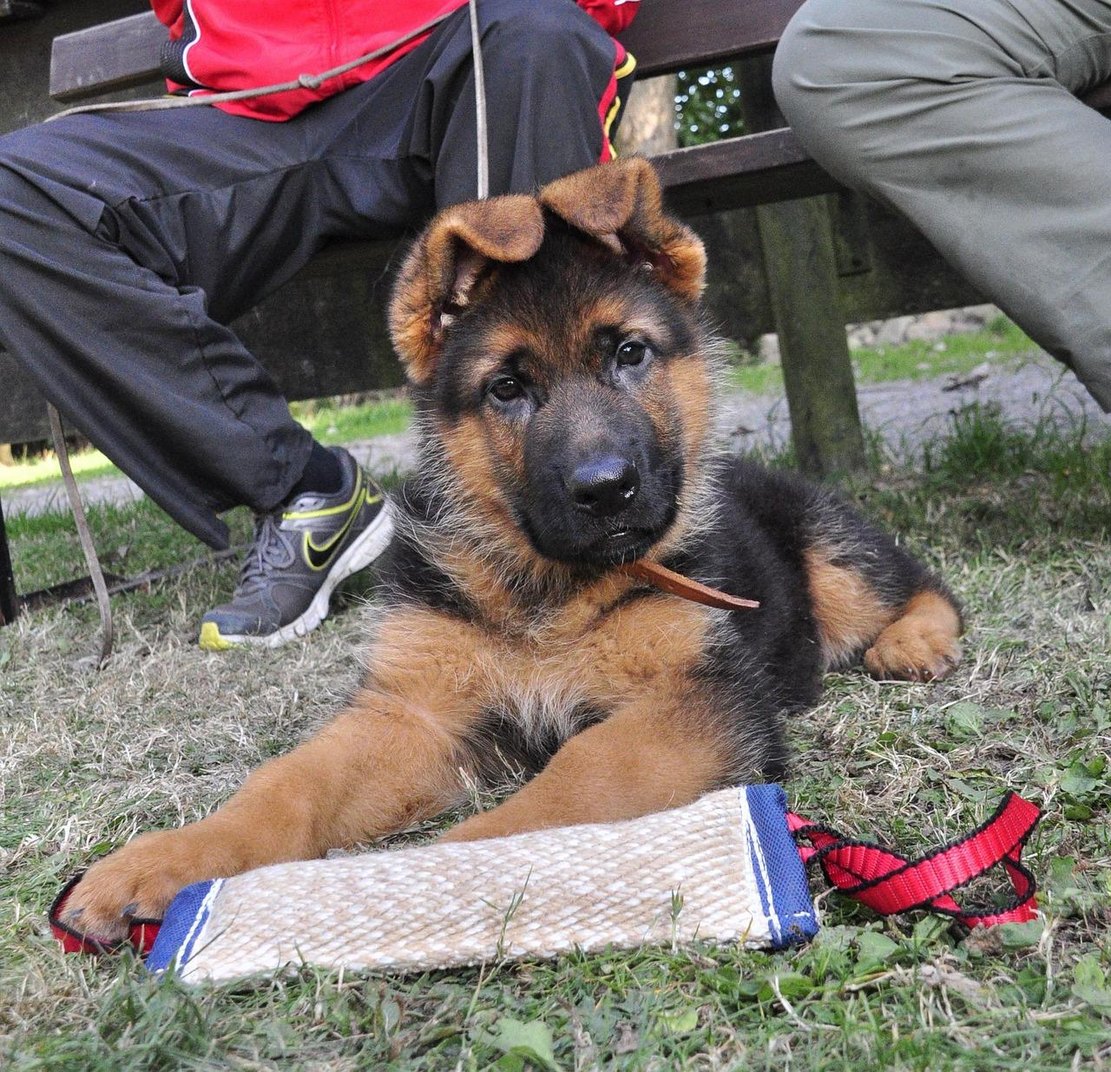german_shepherd: (405, 190, 725, 576)
